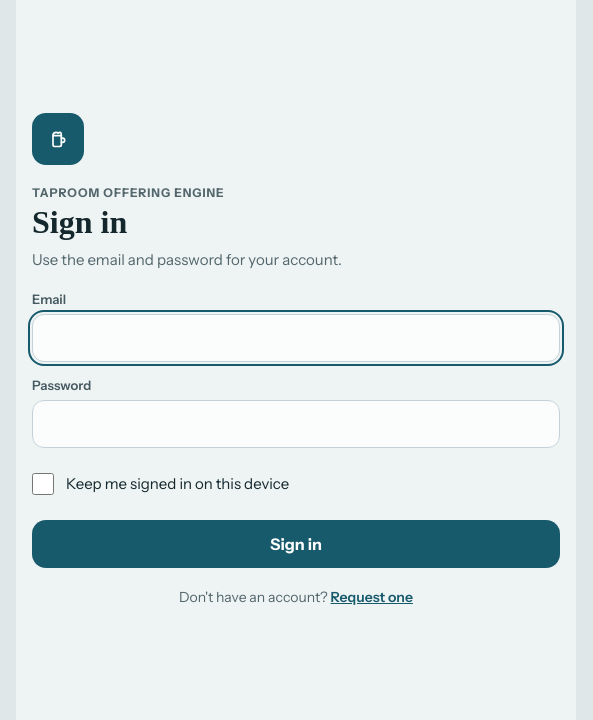
Test: requesting an account › is reachable from the sign-in screen
Step 1. Click the link "Request one" → (372, 597), box 331,588 -> 413,606
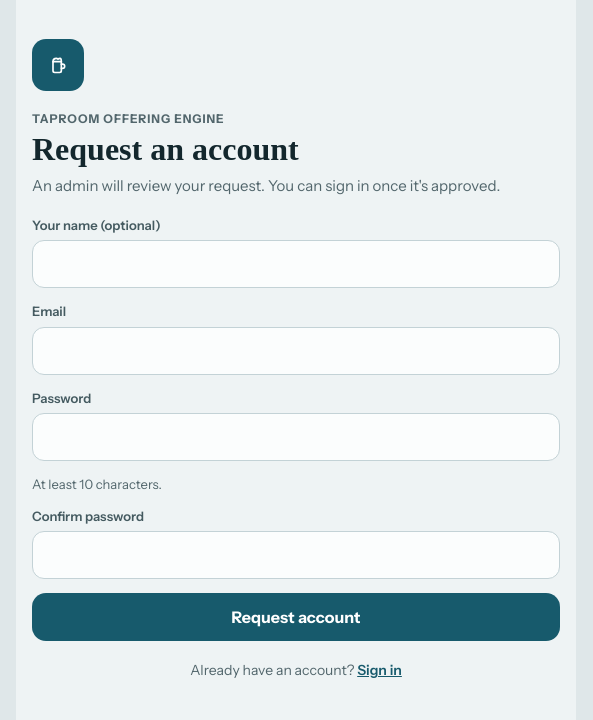
Expected: the heading "Request an account" is shown, 32,131 -> 299,167
